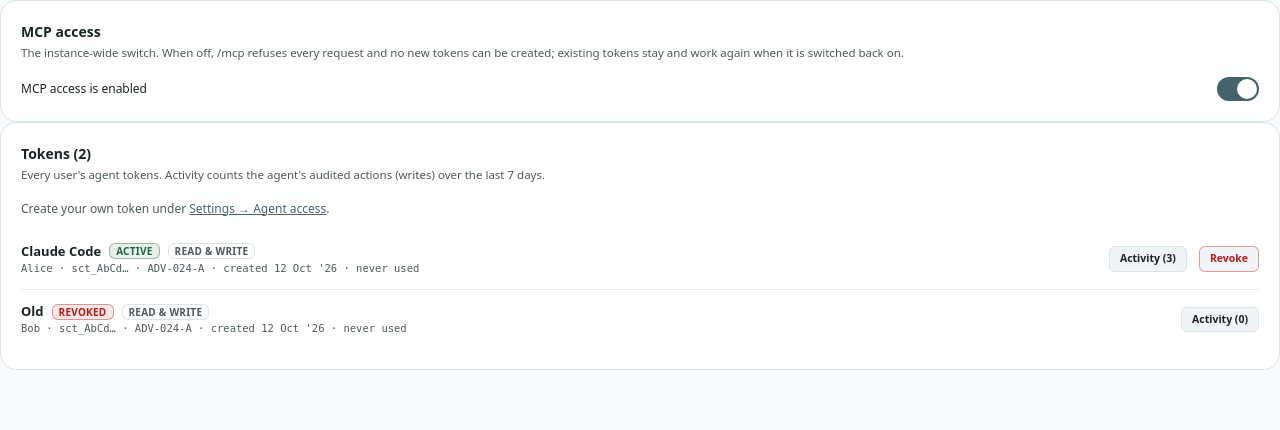
Test: expands the recent activity of a token
This screenshot has width=1280, height=430.
Click the button "Activity (3)" at (1148, 259), box [1109,246,1187,272]
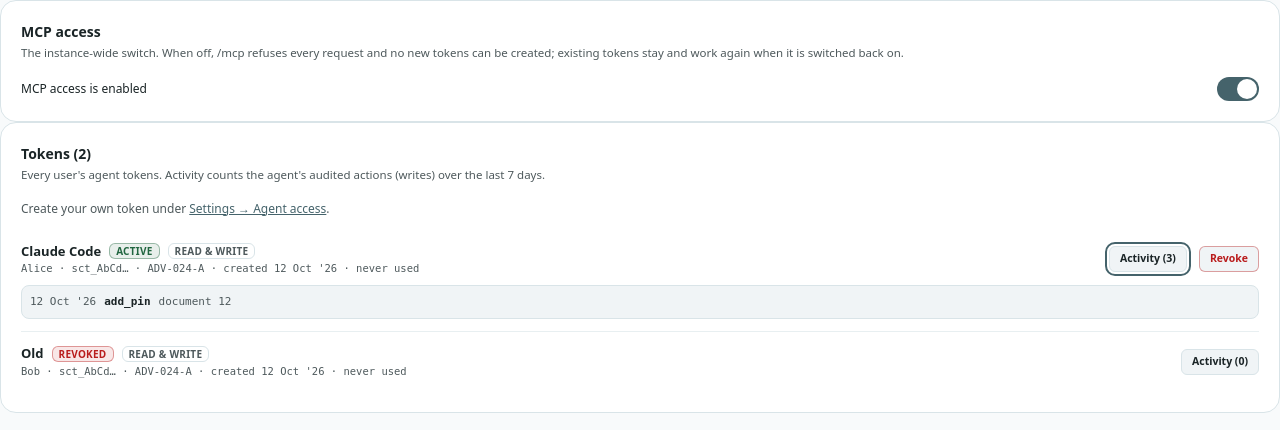
Result: the text "add_pin" is shown at [104,294,151,310]
Result: the text "document 12" is shown at [159,294,232,310]
